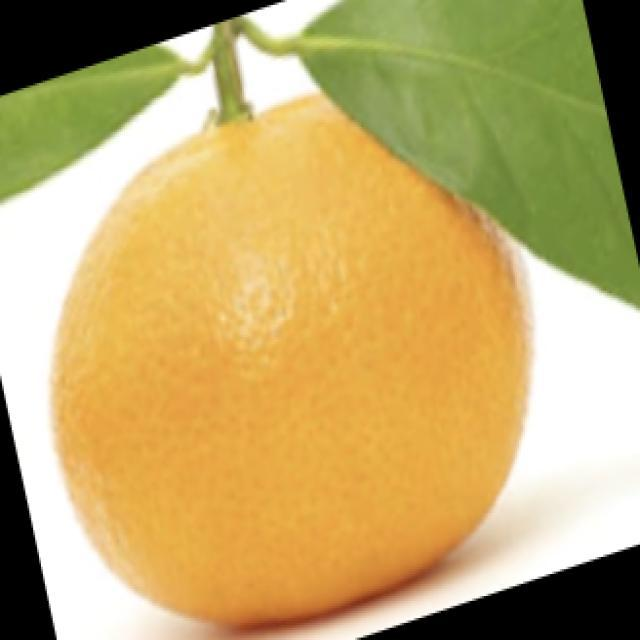Orange: (47, 90, 535, 630)
